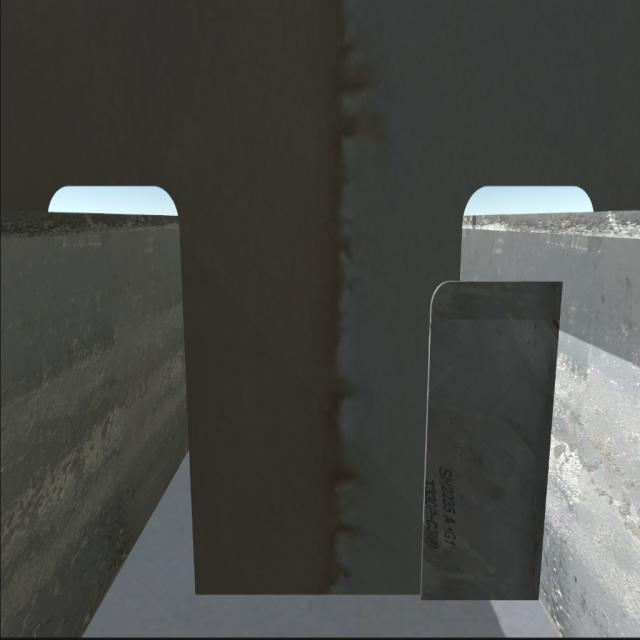fillet_yong_jeop_jang: (185, 572, 553, 612)
longi_yong_jeop_jang: (537, 266, 557, 604)
plate_CP05: (428, 280, 548, 599)
